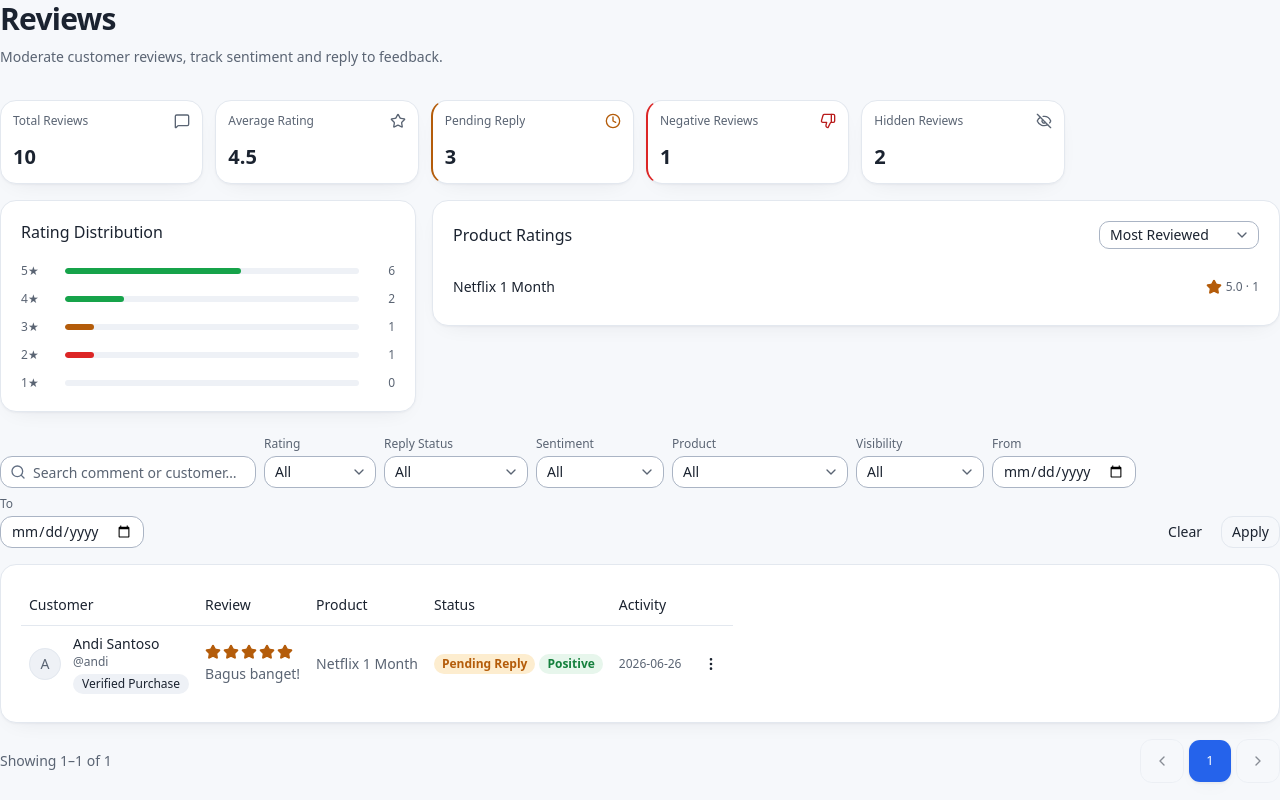
Test: ReviewsPage › Reply dialog happy path: saves a reply via POST /api/reviews/:id/reply and shows a success toast
Check: the text "Bagus banget!" is shown, box [205, 664, 300, 684]
Click the button named "Actions for review #1" at (712, 664), box [698, 650, 726, 678]
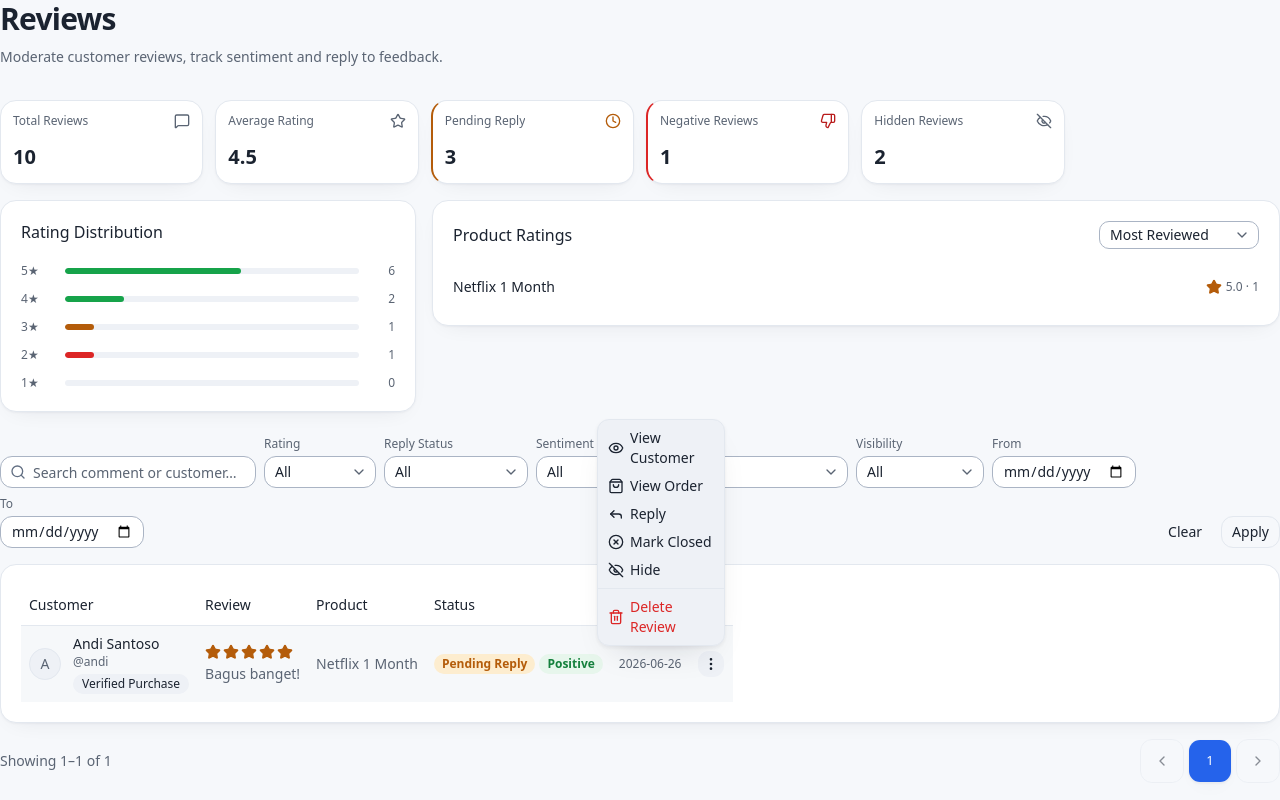
Click the menu item "Reply" at (637, 514), box [608, 504, 666, 523]
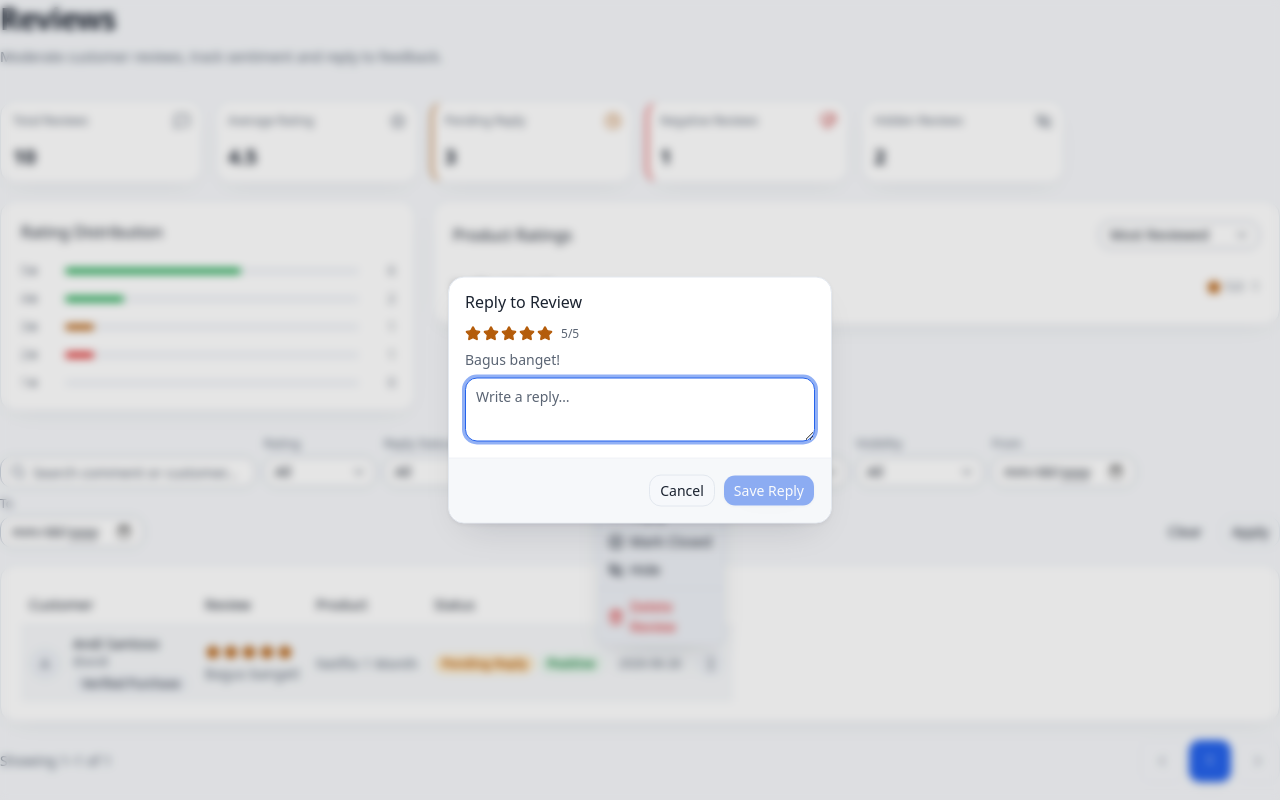
Check: the heading "Reply to Review" is shown, box [465, 290, 582, 312]
Type "Thanks for the feedback!" into the text box with placeholder "Write a reply…" at (640, 410), box [465, 378, 815, 442]
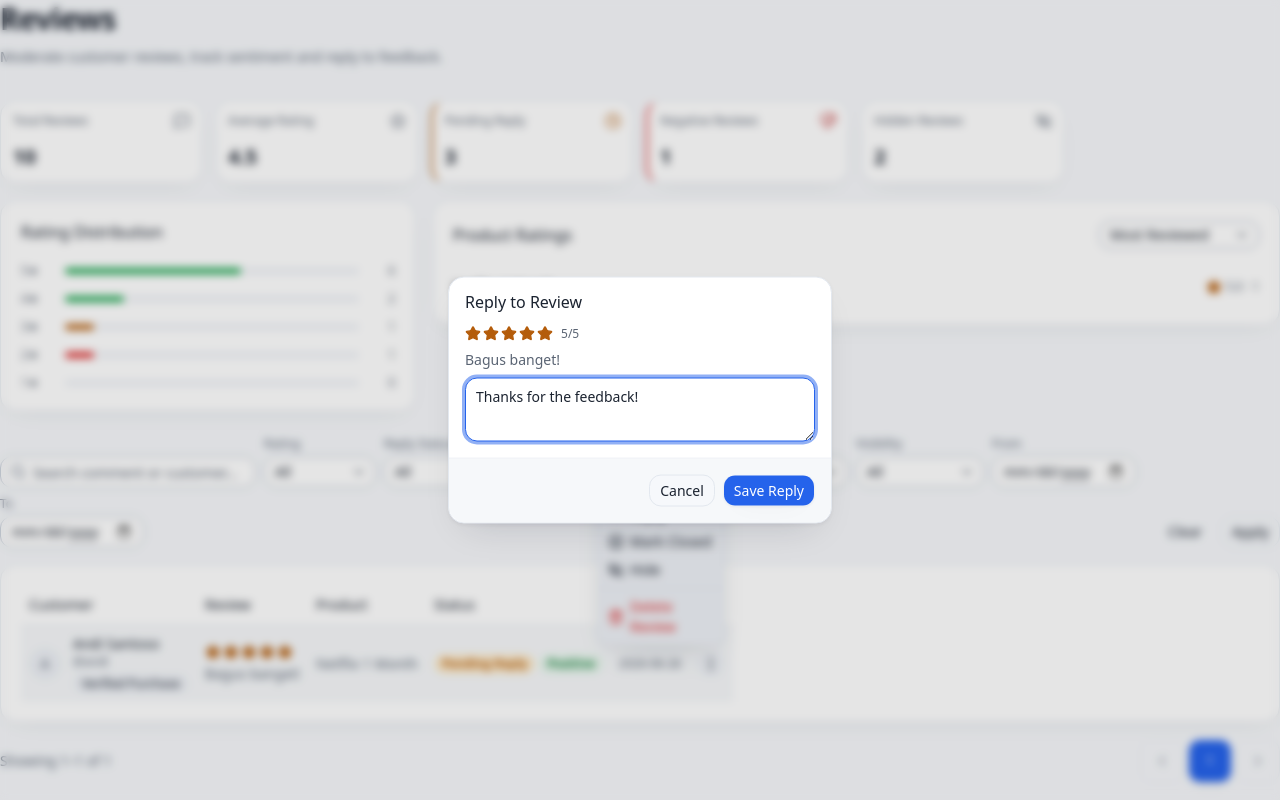
Click the button "Save Reply" at (769, 490), box [723, 474, 815, 506]
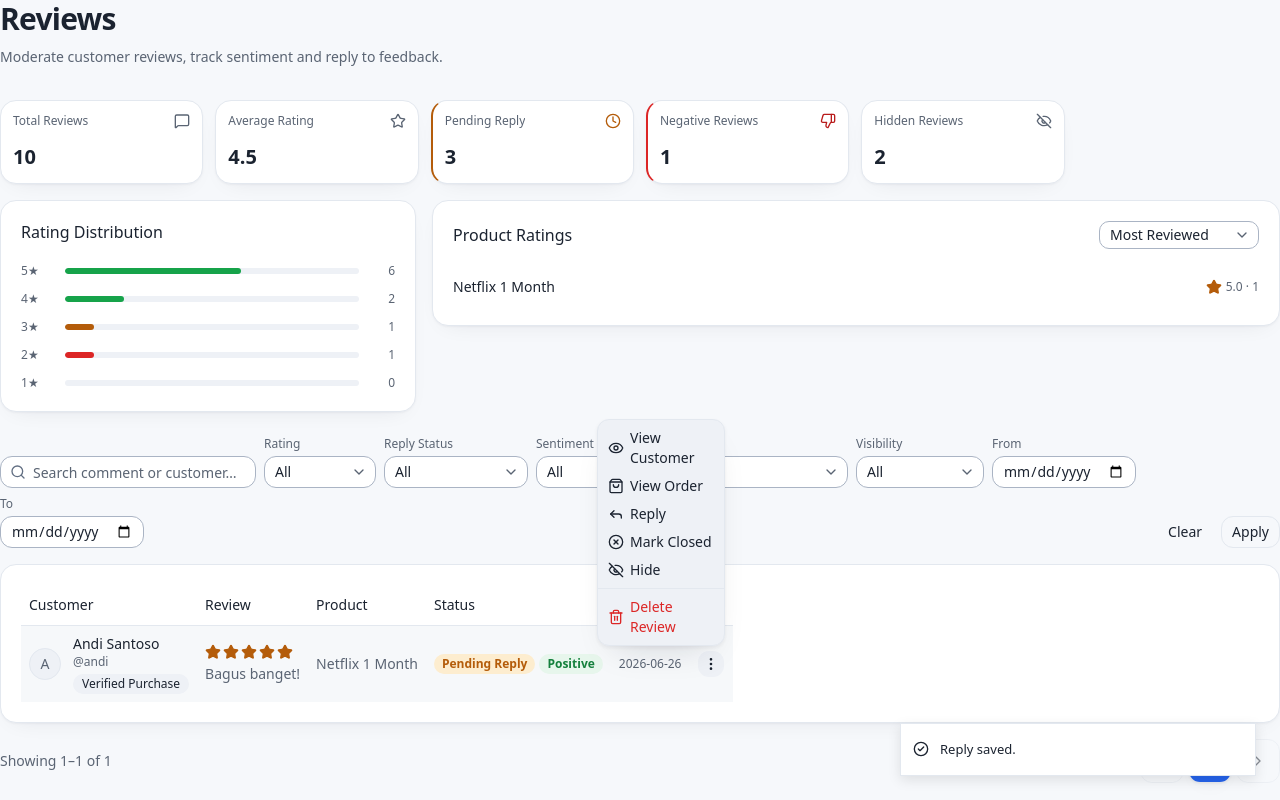
Check: the text "Reply saved." is shown, box [940, 740, 1016, 759]
